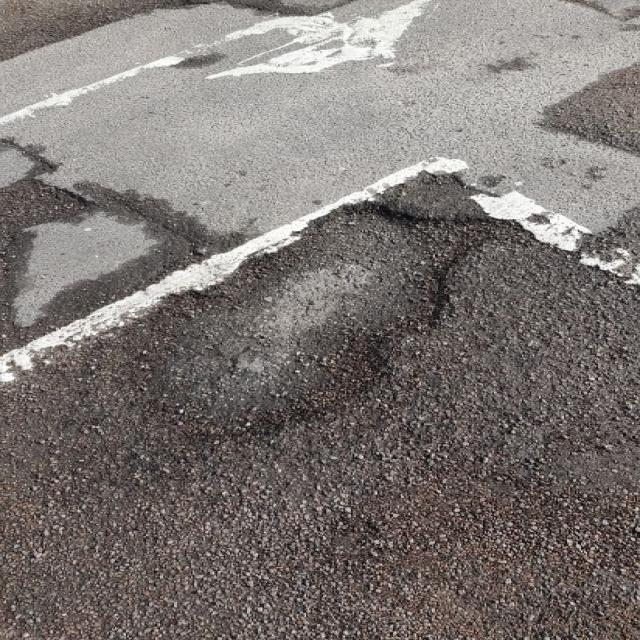Pothole: (100, 195, 512, 450)
